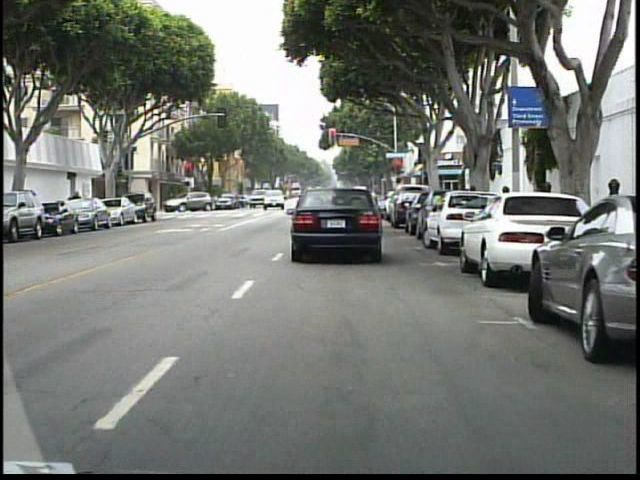person: (70, 186, 87, 224), (169, 190, 184, 217)
